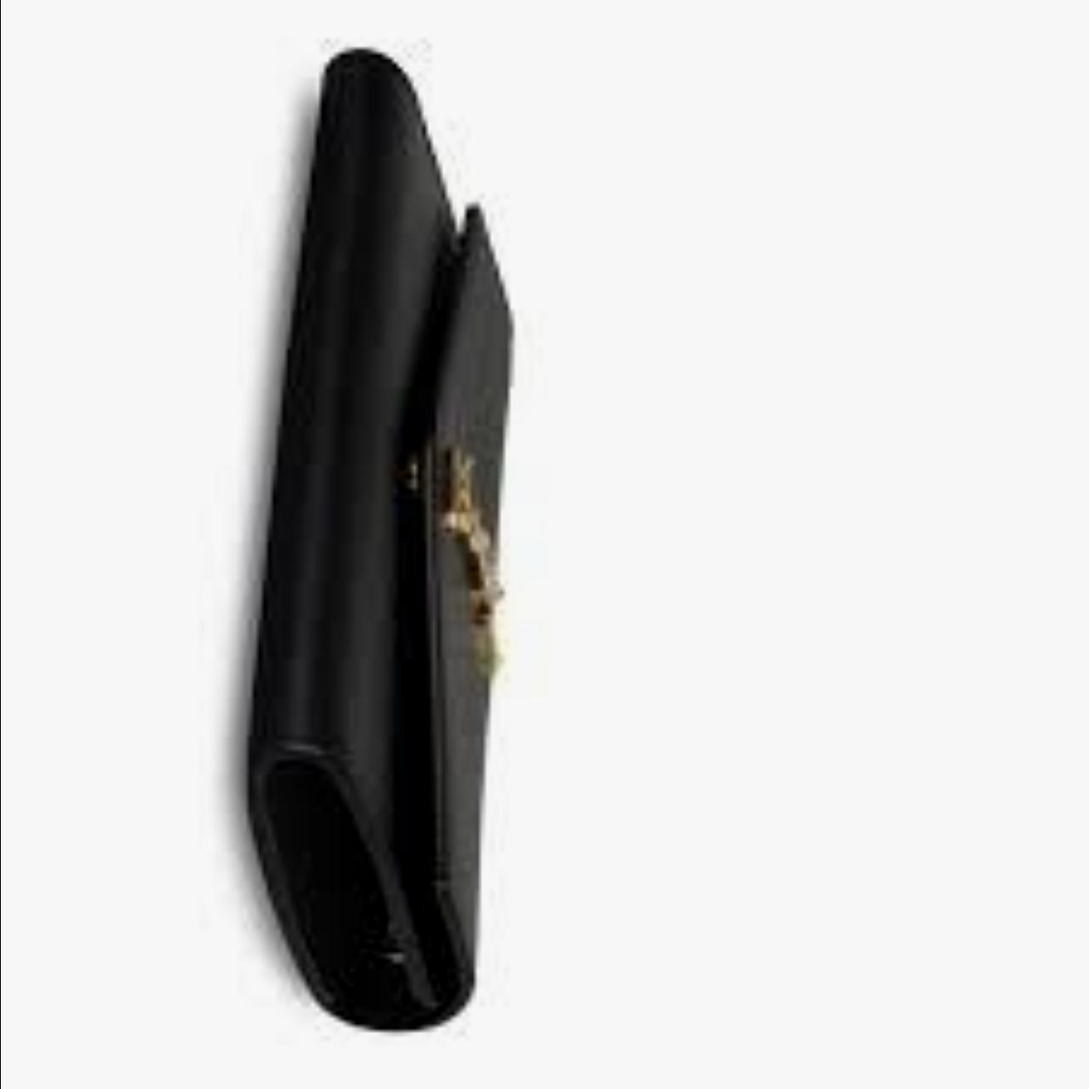wallet: (211, 24, 510, 1060)
